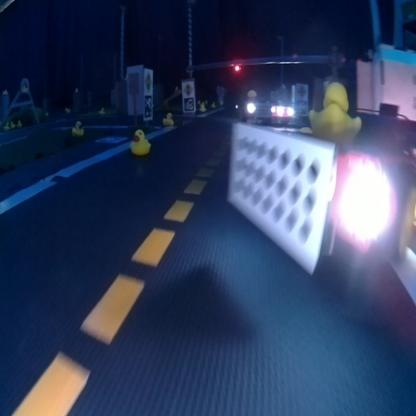duckie: (308, 73, 357, 145), (126, 122, 158, 165)
duckiebot: (220, 119, 409, 322)
